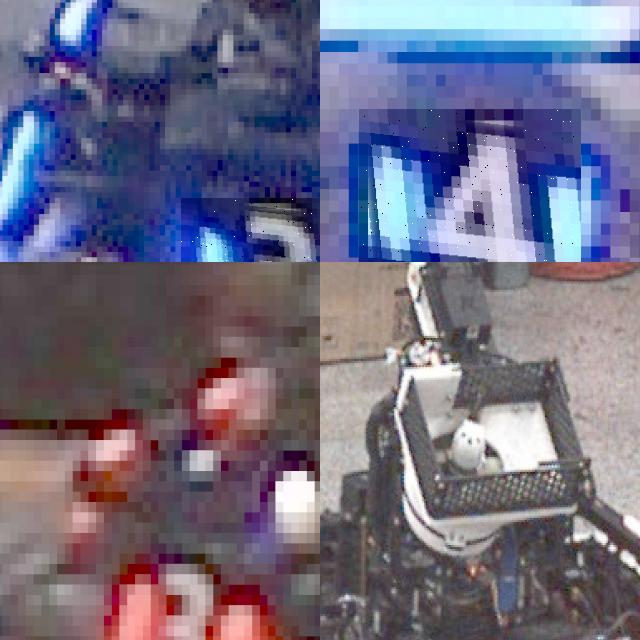B3: (180, 197, 320, 262)
B4: (358, 109, 581, 262)
R3: (104, 563, 260, 640)
